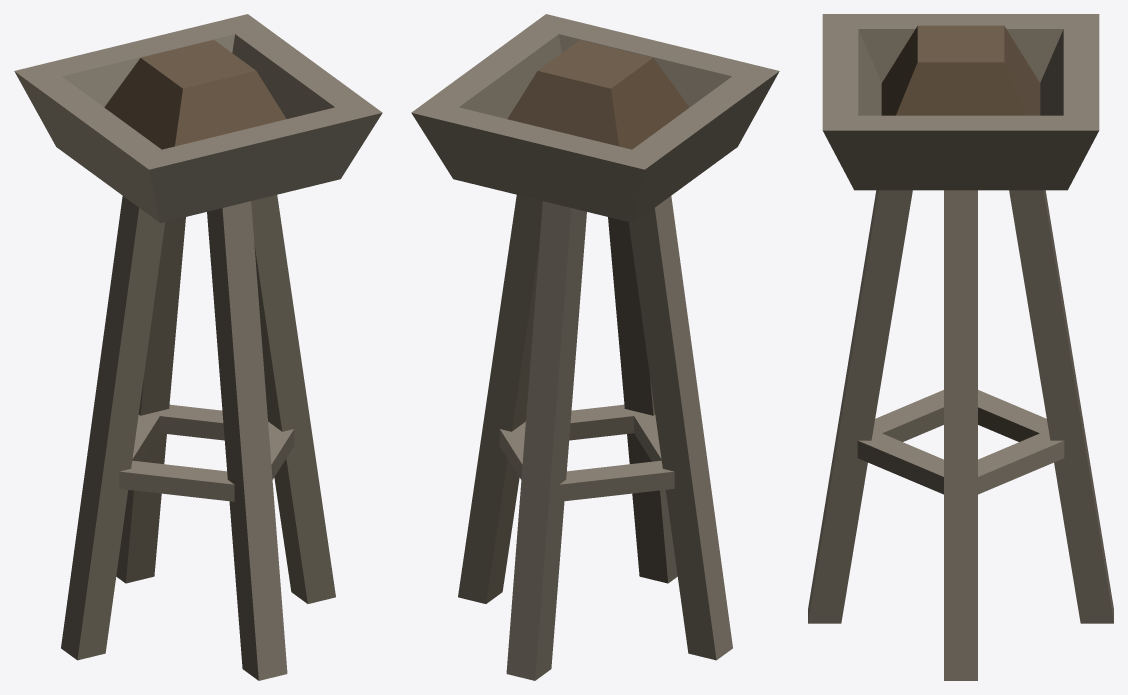
Rendered from ST_Prop_Brazier_02.fbx.
The picture shows the model from 3 angles, left to right: view 1: azimuth 30°, elevation 25°; view 2: azimuth 150°, elevation 25°; view 3: azimuth 270°, elevation 25°; orthographic projection. The views are drawn at different scales.
Visible parts, largest first — view 1: ST_Prop_Brazier_02; view 2: ST_Prop_Brazier_02; view 3: ST_Prop_Brazier_02.
Part boxes in pixels (x1,y1,x2,y2): ST_Prop_Brazier_02: (14,14,382,680); ST_Prop_Brazier_02: (411,14,779,680); ST_Prop_Brazier_02: (808,14,1113,680).
Bounding box in the file's own units: 1.02 × 2.11 × 1.02.
